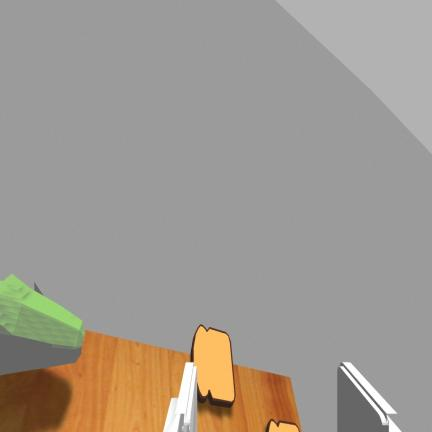lettuce: (0, 274, 85, 374)
sliced_bread: (191, 325, 235, 407), (266, 419, 299, 431)
